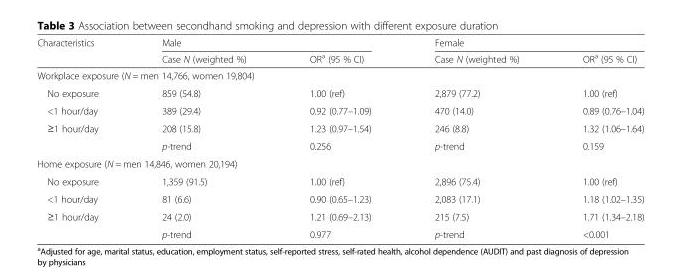table: (36, 36, 643, 239)
table column: (129, 36, 277, 239), (402, 36, 550, 239), (277, 36, 402, 239), (36, 36, 129, 239), (550, 36, 643, 239)
table column header: (36, 36, 643, 66)
table projected row header: (36, 66, 643, 84), (36, 154, 643, 172)
table row: (36, 66, 643, 84), (36, 101, 643, 119), (36, 136, 643, 154), (36, 154, 643, 172), (36, 189, 643, 207), (36, 207, 643, 225), (36, 49, 643, 66), (36, 84, 643, 101), (36, 119, 643, 136), (36, 172, 643, 189), (36, 225, 643, 239), (36, 36, 643, 49)
table spanning cell: (129, 36, 402, 49), (36, 119, 129, 154), (402, 36, 643, 49), (36, 207, 129, 239), (36, 36, 129, 66)
